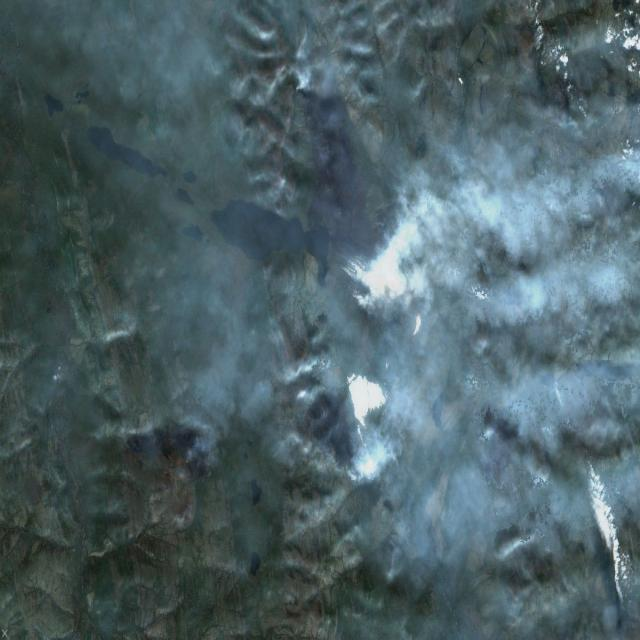fire: (338, 171, 412, 340), (336, 415, 387, 501)
